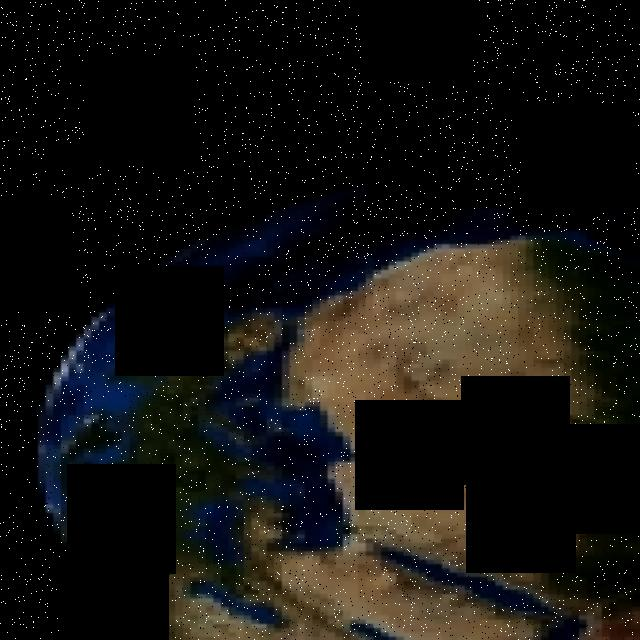Earth: (30, 150, 640, 640)
